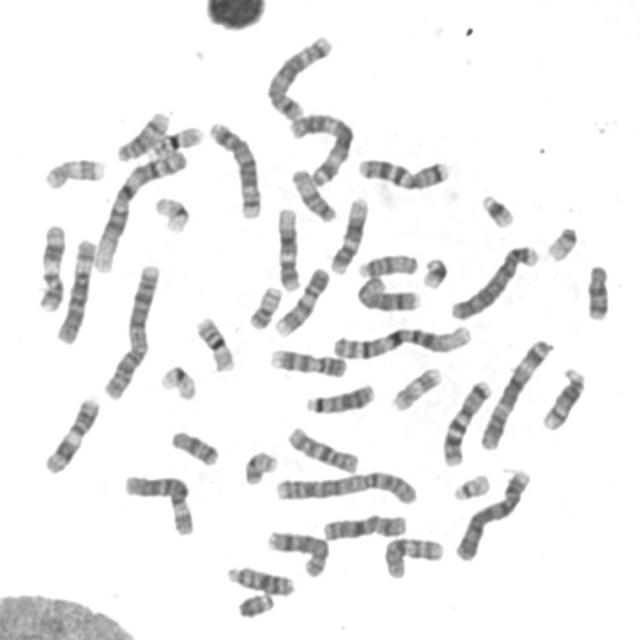A1: (89, 145, 190, 275), (328, 320, 473, 362)
A2: (98, 259, 162, 401), (269, 465, 420, 506)
A3: (476, 333, 555, 451), (284, 108, 356, 188)
B4: (450, 463, 534, 564), (447, 240, 540, 322)
B5: (261, 29, 335, 123), (205, 116, 264, 220)
C10: (283, 421, 361, 477), (379, 532, 446, 581)
C11: (38, 392, 101, 476), (33, 220, 67, 313)
C12: (325, 193, 371, 276), (272, 204, 303, 292)
C6: (119, 469, 196, 538), (51, 234, 97, 346)
C7: (438, 375, 494, 468), (353, 153, 451, 192)
C8: (263, 525, 330, 579), (351, 272, 422, 314)
C9: (270, 263, 331, 338), (265, 344, 349, 380)
D13: (302, 379, 376, 416), (222, 562, 296, 598)
D14: (538, 362, 588, 432), (112, 105, 172, 163)
D15: (287, 164, 339, 224), (353, 249, 420, 279)
E16: (191, 311, 237, 374), (146, 121, 204, 159)
E17: (388, 362, 444, 413), (39, 152, 107, 191)
E18: (166, 425, 220, 468), (582, 258, 612, 322)
F19: (150, 192, 192, 235), (154, 361, 198, 402)
F20: (244, 282, 284, 331), (240, 447, 279, 487)
G21: (476, 189, 517, 230), (417, 252, 449, 290)
G22: (542, 221, 580, 263), (448, 470, 492, 502)
X: (318, 510, 408, 542)
Y: (233, 589, 275, 620)
